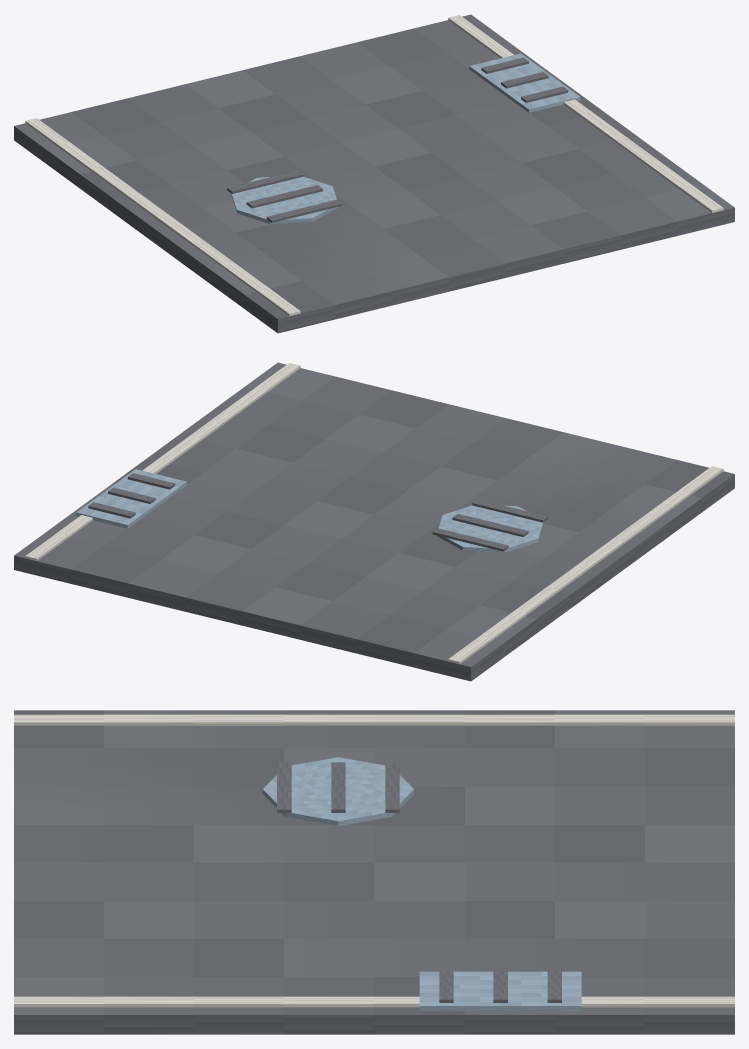
File: pixel-modern-city-street-manhole-drain-tile-e2b206ec__29000.glb
The picture shows the model from 3 angles, top to bottom: view 1: azimuth 30°, elevation 25°; view 2: azimuth 150°, elevation 25°; view 3: azimuth 270°, elevation 25°; orthographic projection. The views are drawn at different scales.
Parts seen in each view (by area): view 1: manhole-drain-tile; view 2: manhole-drain-tile; view 3: manhole-drain-tile.
Part boxes in pixels (bbox=[...]): manhole-drain-tile: bbox=[14, 14, 734, 333]; manhole-drain-tile: bbox=[14, 362, 734, 681]; manhole-drain-tile: bbox=[14, 710, 734, 1034].
Size of the model in its own units: 4 by 0.1699 by 4.
3 materials, 3 textured.
